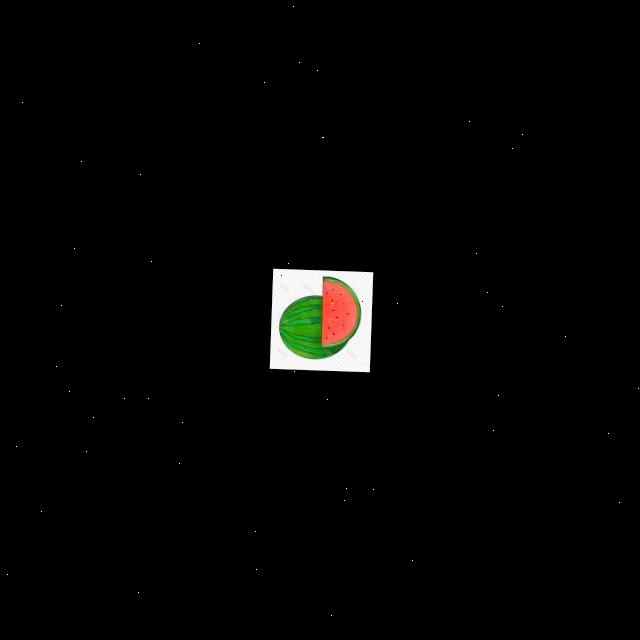watermelon: (277, 294, 349, 360), (320, 276, 360, 349)
